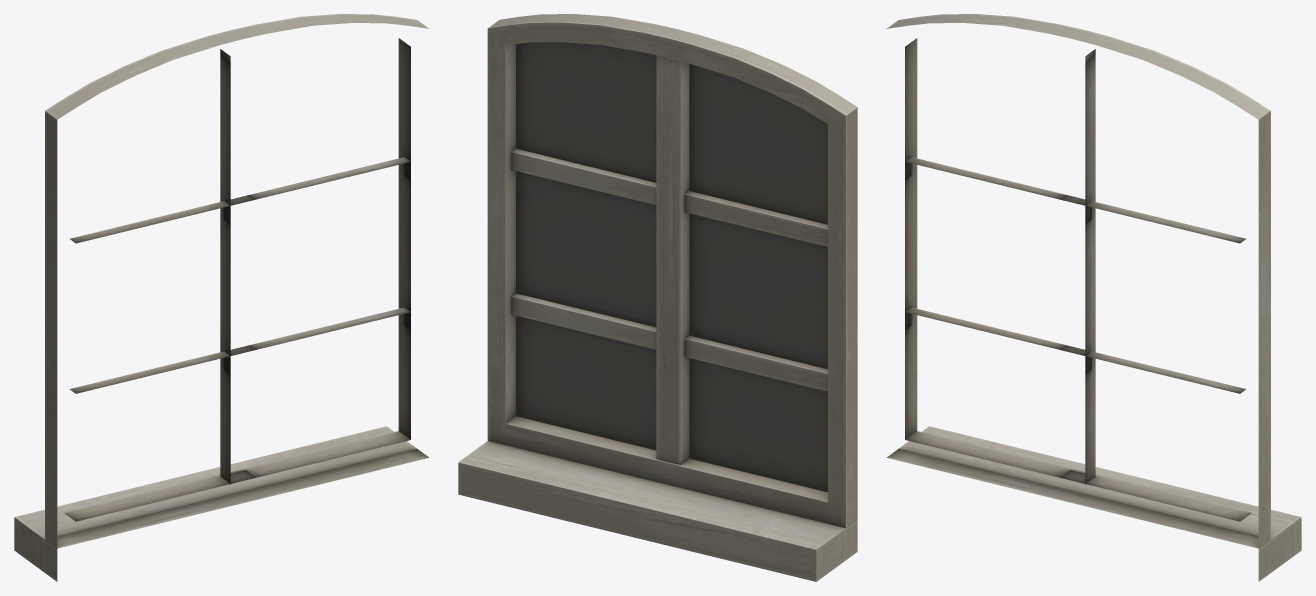
3 renders of one model, left to right at view 1: azimuth 30°, elevation 25°; view 2: azimuth 150°, elevation 25°; view 3: azimuth 330°, elevation 25°, orthographic. The views are drawn at different scales.
Visible parts, largest first — view 1: body0_model0_lod0_mesh0; view 2: body0_model0_lod0_mesh0; view 3: body0_model0_lod0_mesh0.
Part boxes in pixels (x1,y1,x2,y2): body0_model0_lod0_mesh0: [14, 14, 429, 581]; body0_model0_lod0_mesh0: [458, 14, 857, 581]; body0_model0_lod0_mesh0: [886, 14, 1301, 581].
Bounding box in the file's own units: 70 × 89.36 × 14.
Materials: 1 (1 with a texture image).
